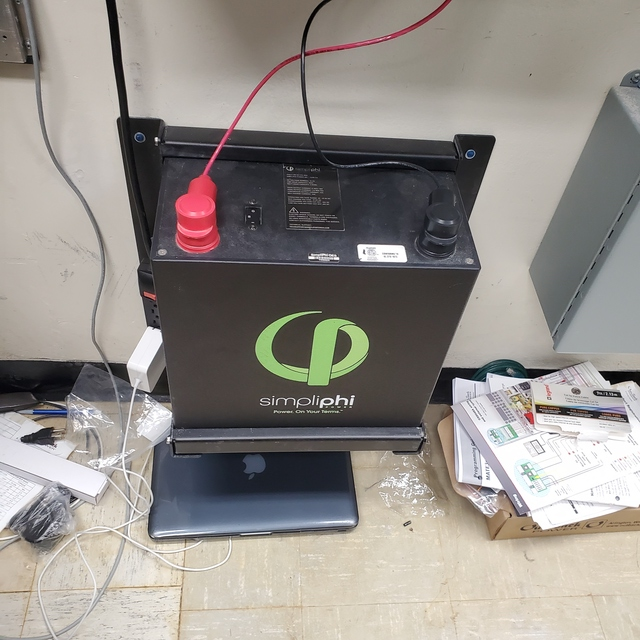battery: (148, 119, 486, 461)
